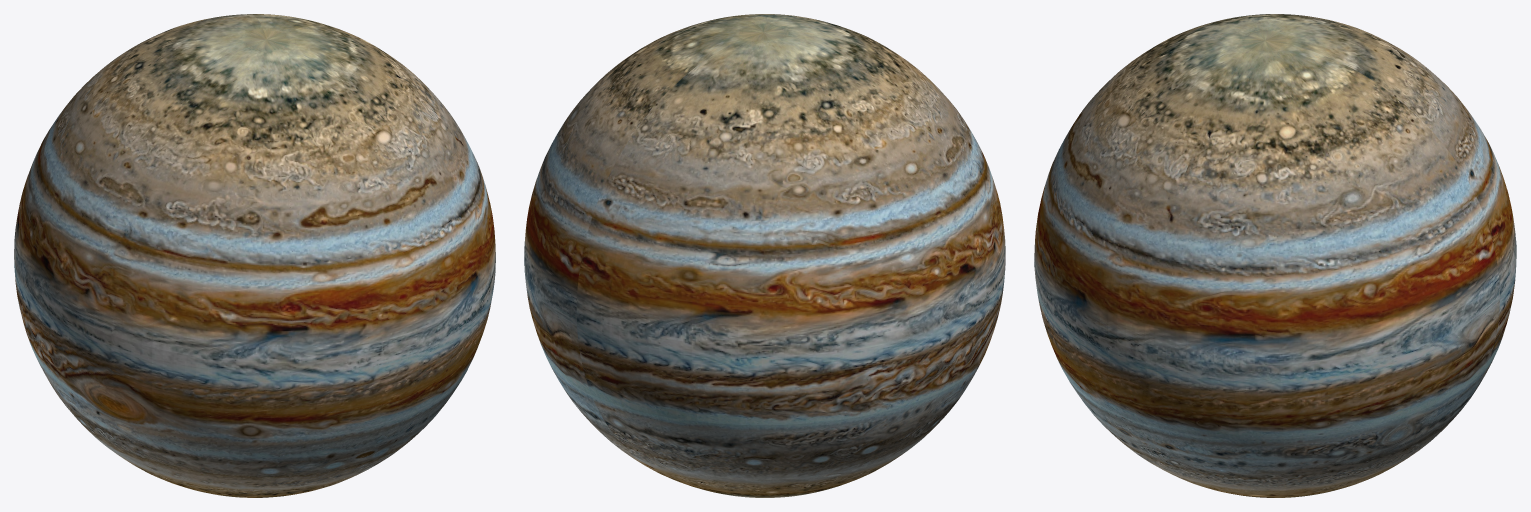
File: jupiter.obj
3 views of the same model, side by side, from view 1: azimuth 30°, elevation 25°; view 2: azimuth 150°, elevation 25°; view 3: azimuth 270°, elevation 25° (orthographic).
Visible parts, largest first — view 1: Sphere.007; view 2: Sphere.007; view 3: Sphere.007.
Part boxes in pixels (bbox=[...]): Sphere.007: bbox=[14, 14, 495, 497]; Sphere.007: bbox=[524, 14, 1005, 497]; Sphere.007: bbox=[1034, 14, 1516, 497].
Bounding box in the file's own units: 1.98 × 1.99 × 1.98.
1 material, 1 textured.
